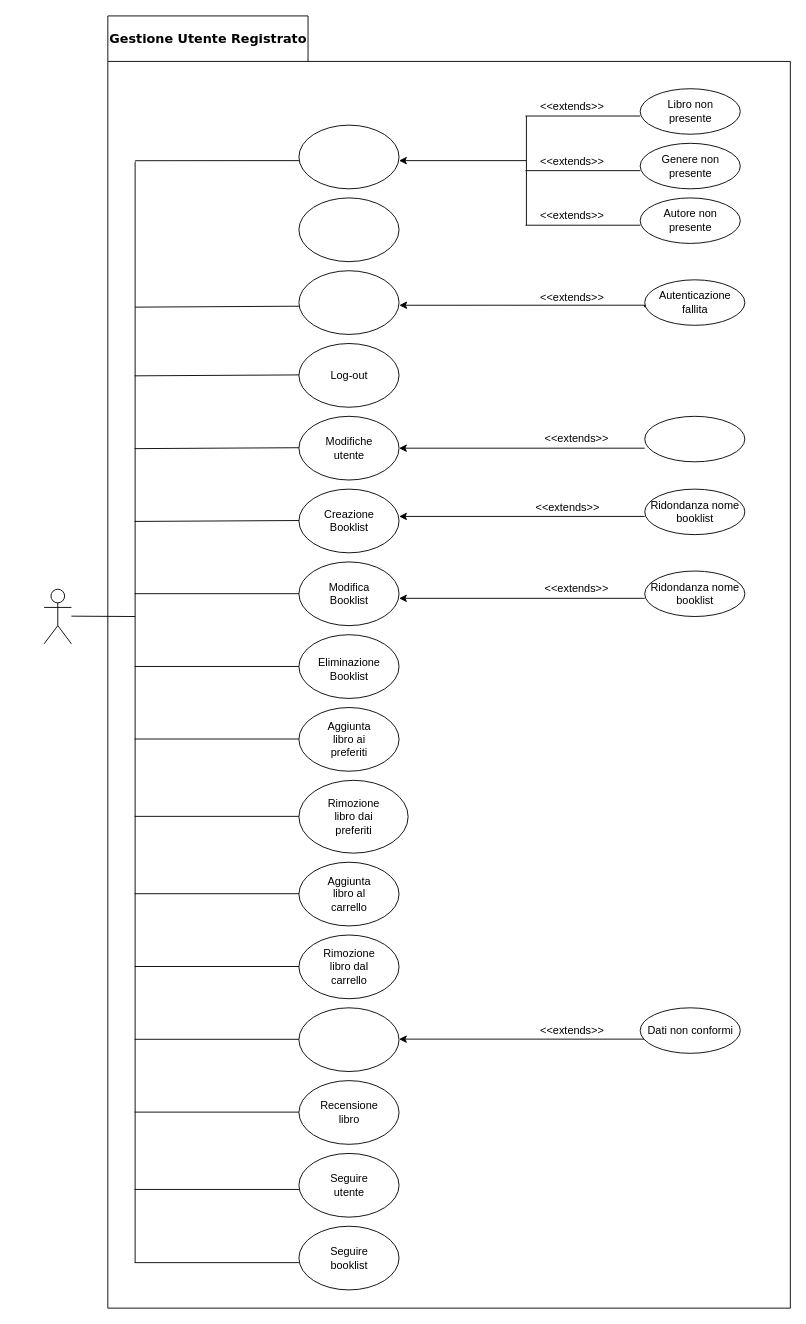
The diagram is 806 pixels wide and 1324 high, and some of its shapes have lost their labels. The box of each missing label's shape, as (x1, y1, x2, y2) in pixels:
Acquisto libro: (298, 1007, 399, 1072)
Autenticazione: (298, 270, 399, 334)
Contattare admin: (298, 197, 399, 262)
Formato non corretto: (644, 415, 745, 462)
Ricerca: (298, 124, 399, 189)
Utente Registrato: (43, 588, 71, 644)
